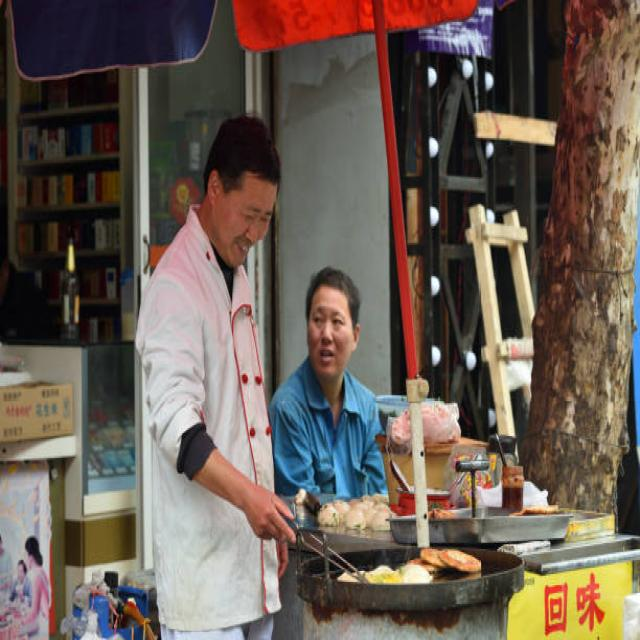Emperan: (199, 384, 640, 638)
